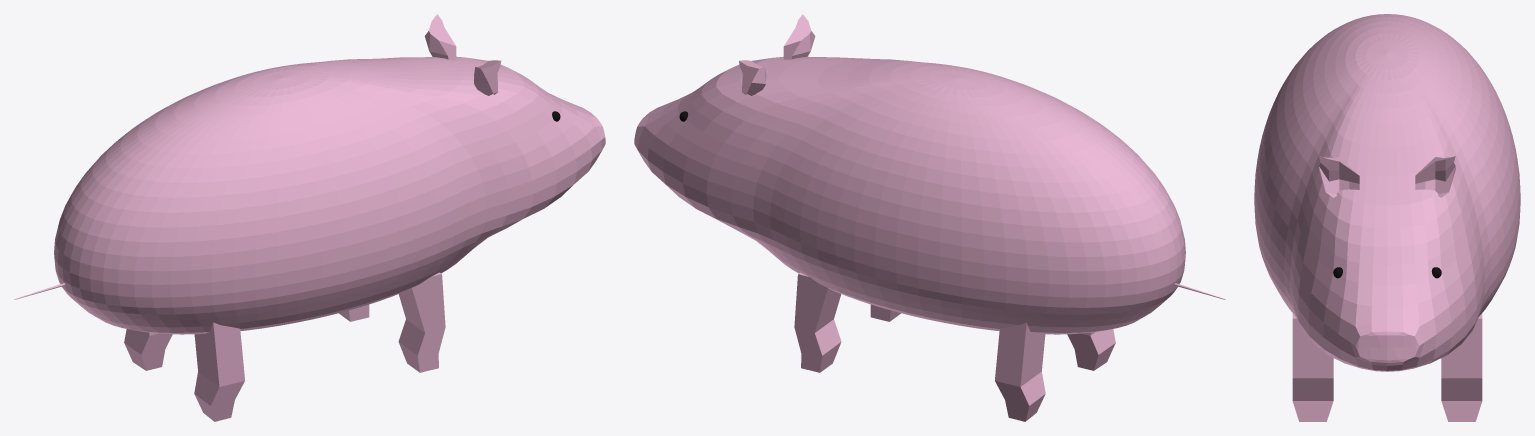
3 renders of one model, left to right at view 1: azimuth 30°, elevation 25°; view 2: azimuth 150°, elevation 25°; view 3: azimuth 270°, elevation 25°, orthographic. The views are drawn at different scales.
Bounding box in the file's own units: 1.81 × 0.8548 × 0.6697.
